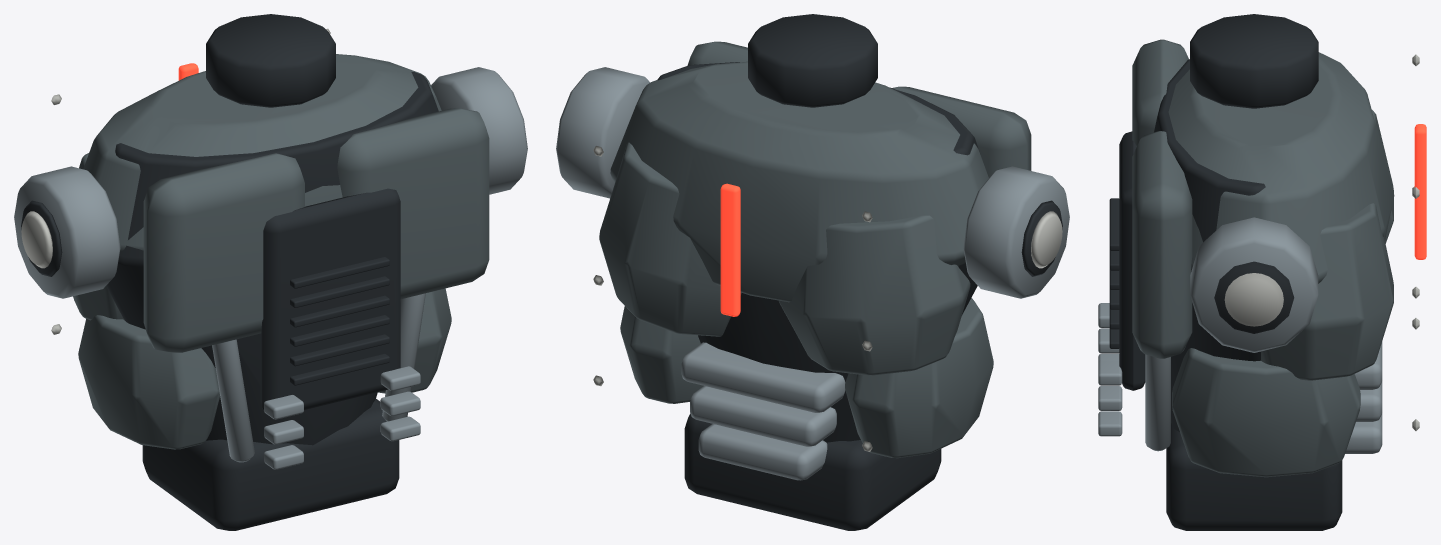
File: torsos_03.glb
3 views of the same model, side by side, from view 1: azimuth 30°, elevation 25°; view 2: azimuth 150°, elevation 25°; view 3: azimuth 270°, elevation 25° (orthographic).
Parts seen in each view (by area): view 1: torsos_03_Geometry; view 2: torsos_03_Geometry; view 3: torsos_03_Geometry.
Part boxes in pixels (x1,y1,x2,y2): torsos_03_Geometry: (14, 14, 527, 530); torsos_03_Geometry: (556, 14, 1069, 530); torsos_03_Geometry: (1098, 14, 1426, 530).
Size of the model in its own units: 0.692 by 0.625 by 0.4105.
